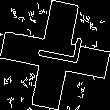L_W: (27, 35, 83, 75)
